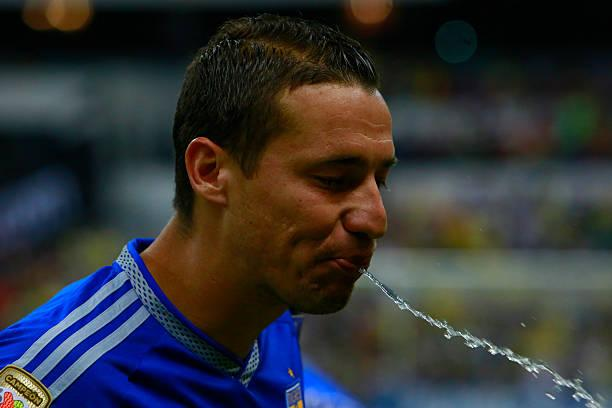Spitting: (156, 2, 512, 407)
